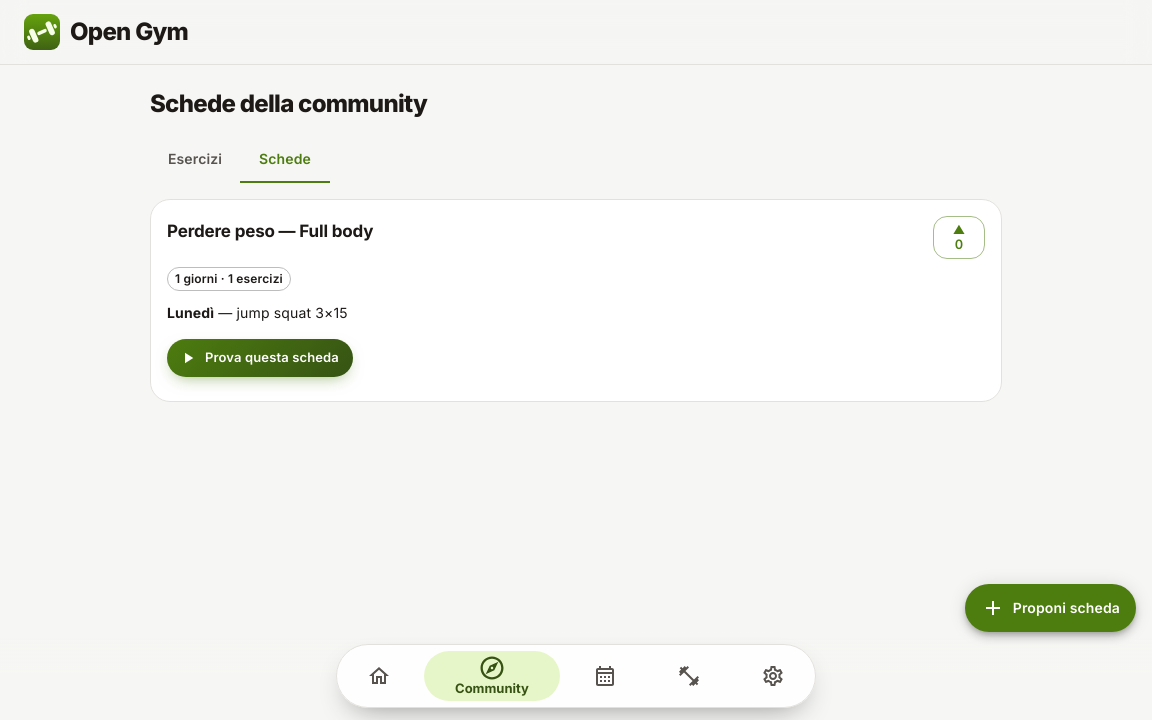
Test: le schede proposte dalla community › se il worker rifiuta il voto, il conteggio torna indietro con un messaggio
The image size is (1152, 720).
Click the button named "Vota Perdere peso — Full body".
click(959, 237)  # box [933, 216, 985, 259]
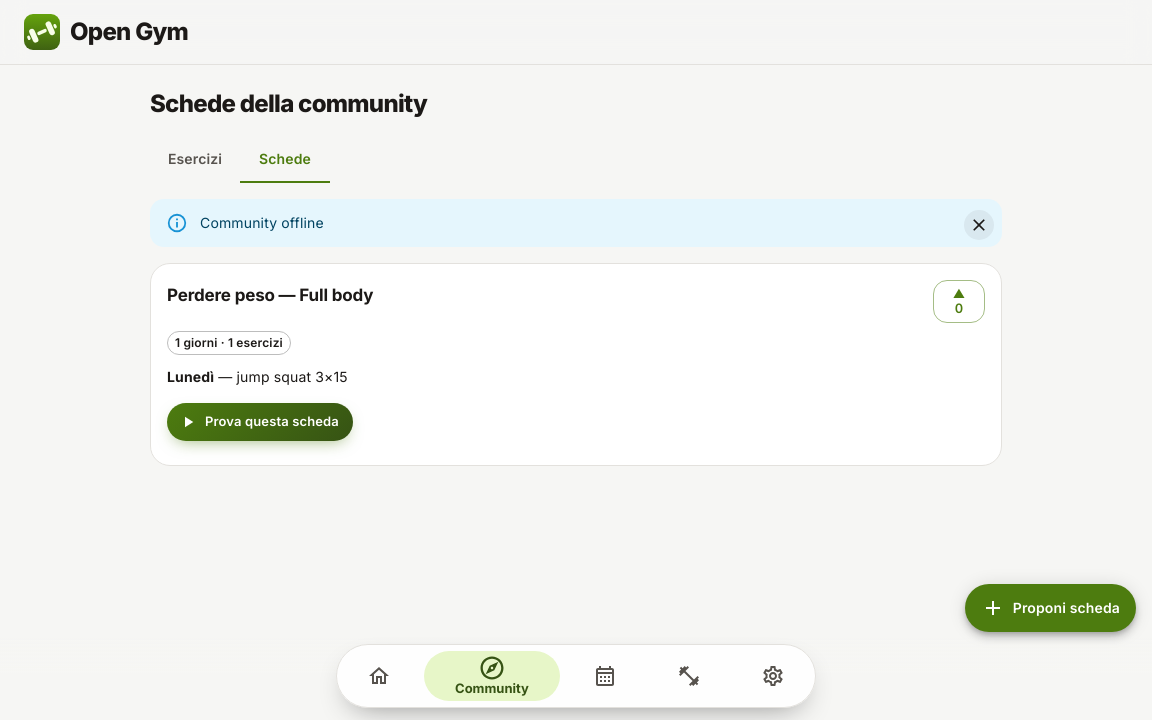
Expected: the text "0" is shown, [955, 301, 963, 316]
Now the text "Community offline" is shown, box [200, 214, 324, 231]
